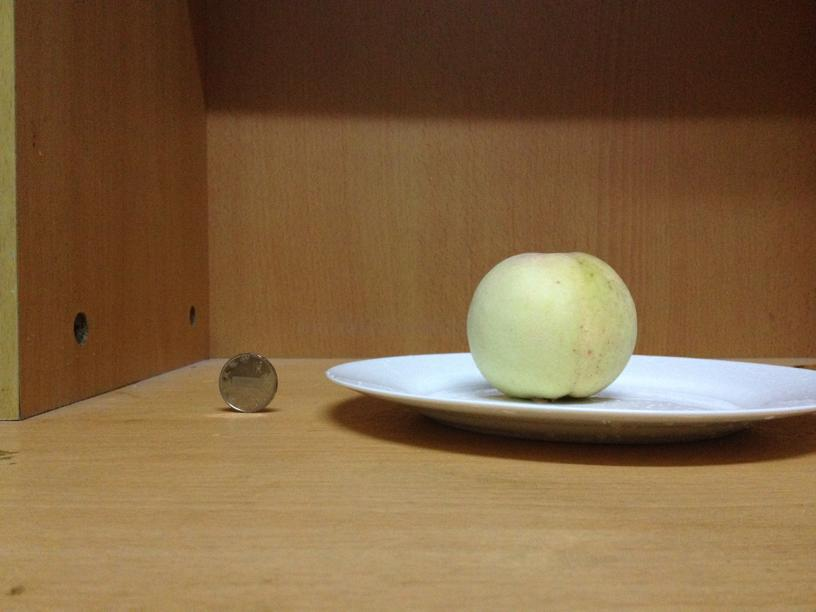coin: (215, 350, 280, 412)
peach: (469, 252, 638, 397)
